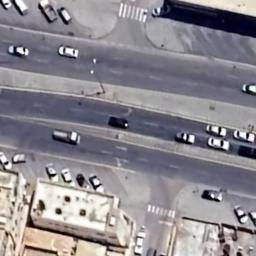pickup: (50, 126, 84, 146), (74, 172, 92, 193)
sedan: (4, 42, 30, 60), (175, 129, 199, 147), (204, 138, 236, 150), (58, 166, 75, 188), (233, 203, 249, 226), (234, 126, 256, 142), (0, 150, 16, 172), (237, 80, 256, 98), (204, 124, 228, 138), (57, 45, 79, 59), (43, 159, 55, 183), (0, 0, 18, 13)
truck: (10, 0, 32, 16)
unknown: (202, 184, 228, 206)
van: (58, 3, 78, 27)
